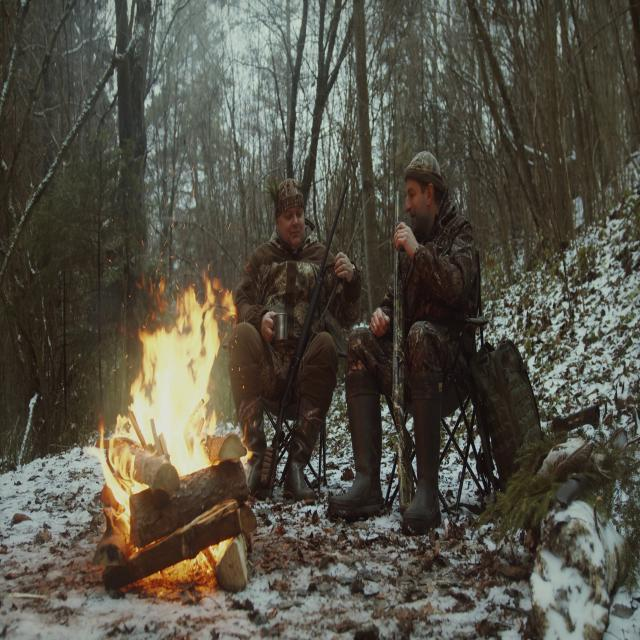Fire: (87, 261, 253, 572)
